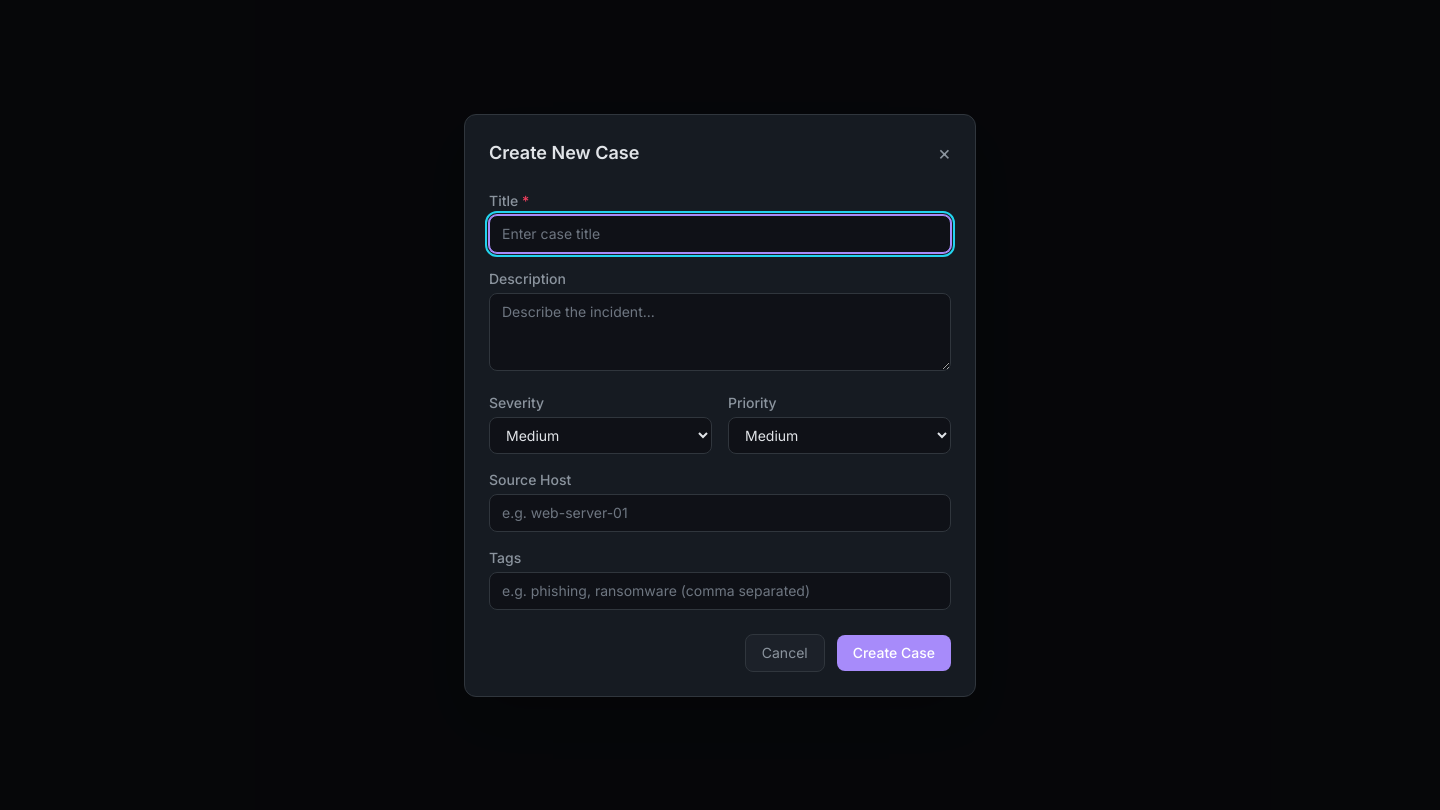
Test: CreateCaseModal › shows validation error for empty title
The width and height of the screenshot is (1440, 810).
Get the last rendered button (most recent modal)
Click the button "Create Case".
click(894, 652)  # box left=837, top=634, right=951, bottom=670
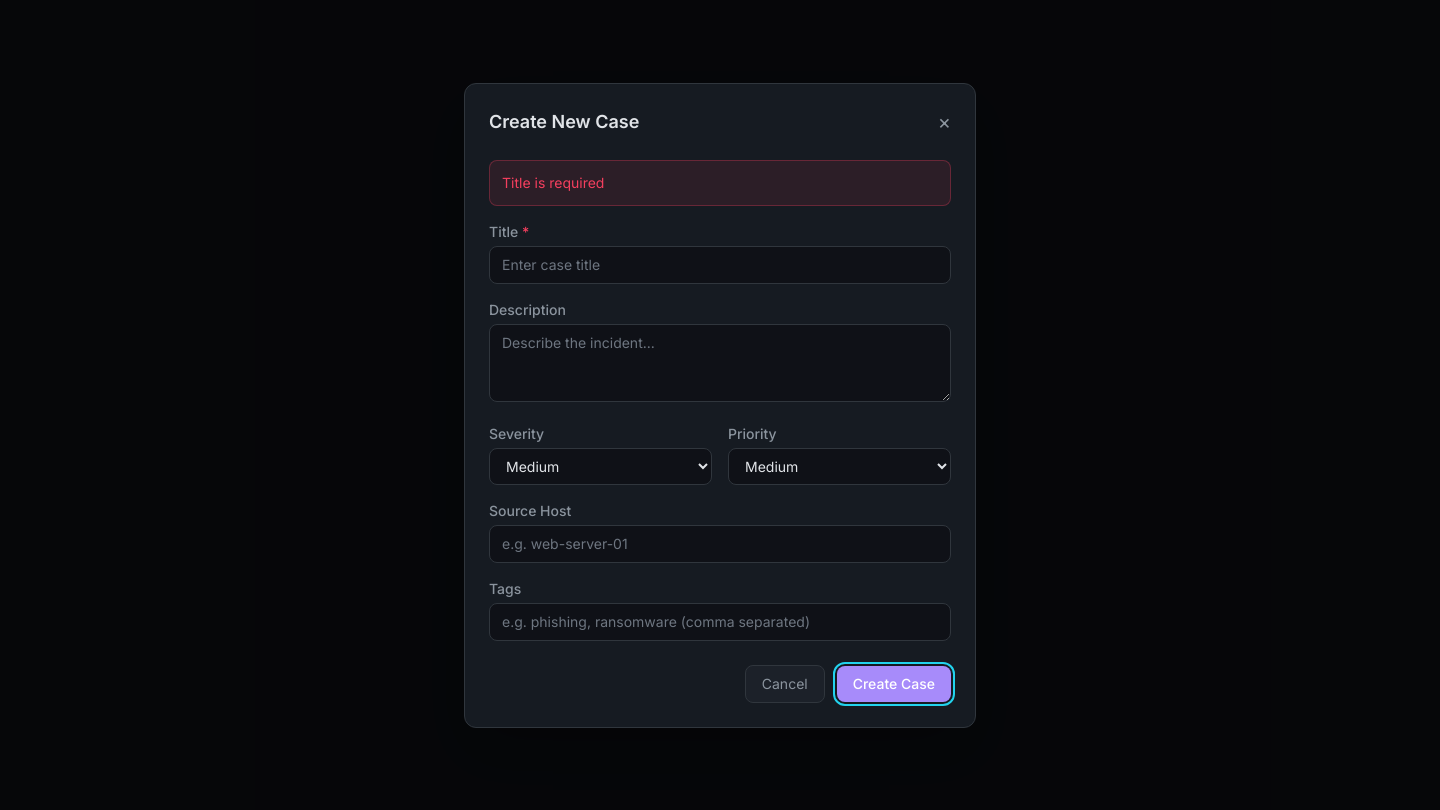
Check: the text "Title is required" is shown, box left=489, top=160, right=951, bottom=206
